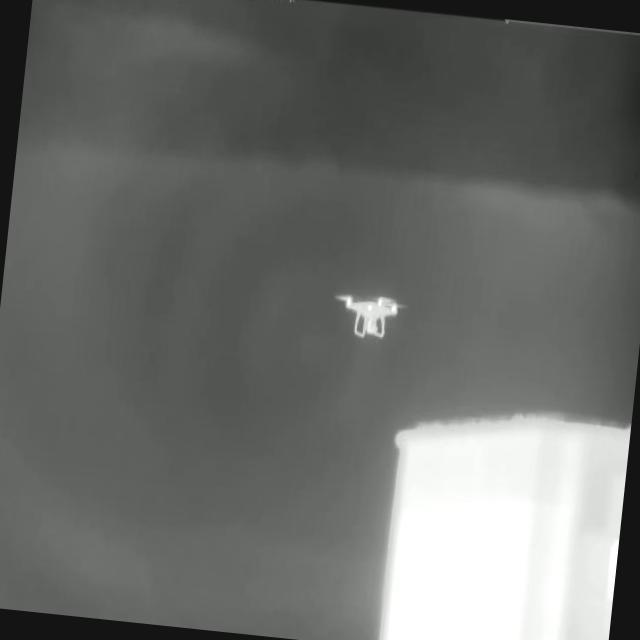DRONE: (330, 292, 412, 338)
